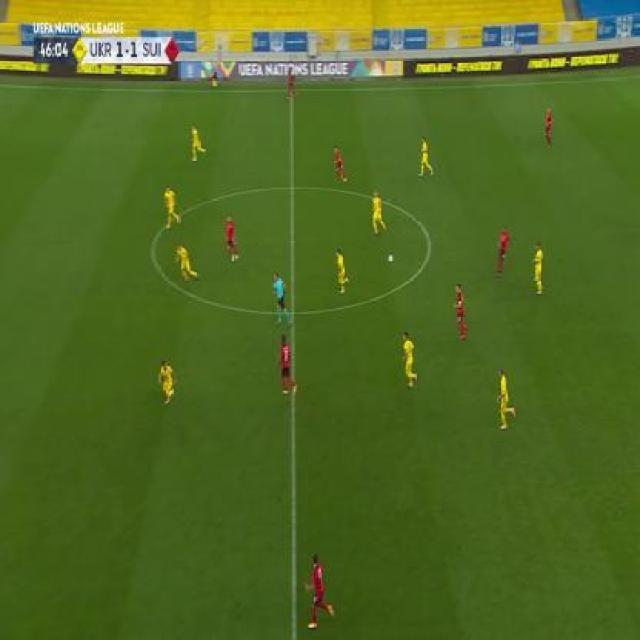ball: (388, 252, 394, 265)
player: (302, 550, 336, 629), (494, 366, 517, 431), (276, 333, 298, 395), (269, 271, 291, 325), (399, 330, 418, 389), (174, 241, 199, 283), (452, 282, 468, 341), (157, 359, 177, 405), (496, 225, 513, 278), (369, 189, 388, 235), (162, 185, 181, 230), (416, 135, 435, 177), (335, 247, 351, 295), (224, 215, 240, 263), (531, 241, 545, 295), (332, 143, 348, 182), (190, 123, 206, 160), (286, 62, 300, 101), (543, 107, 554, 146), (210, 60, 221, 88)
